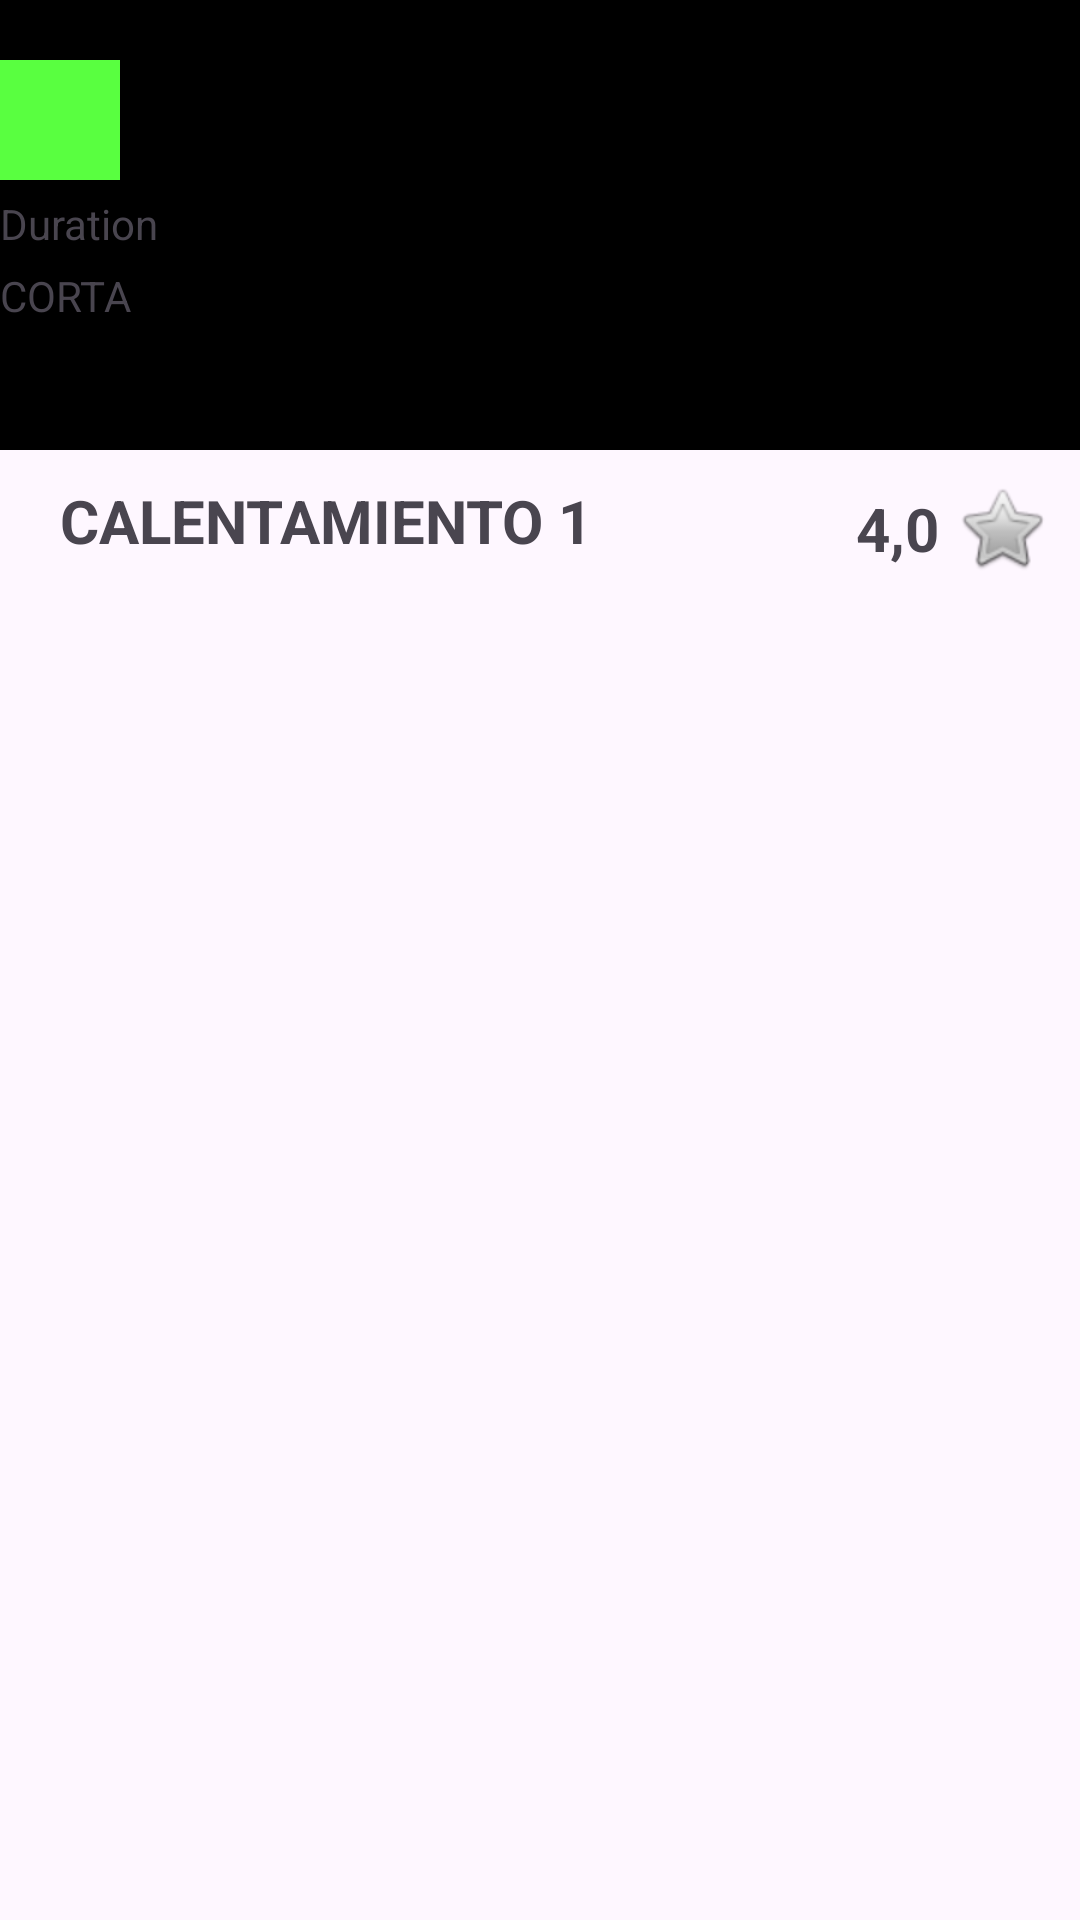

Icons on this 1080*1920 Android screen, each with its box as rect(x1, y1, x2, y2):
star: rect(963, 490, 1043, 568)
